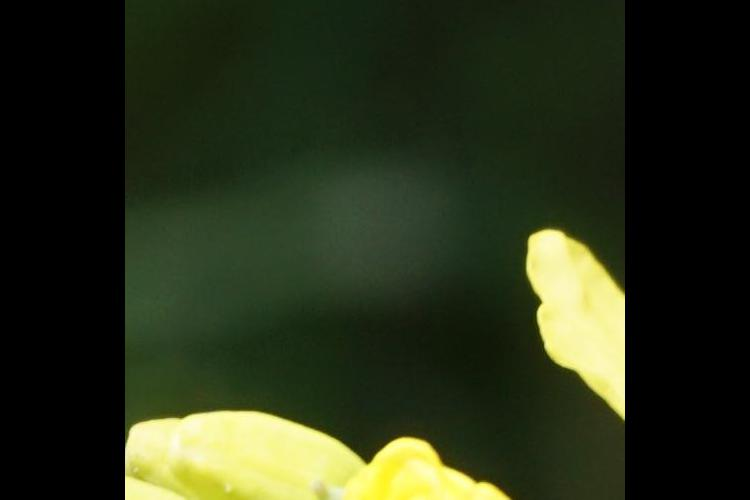bud: (170, 407, 365, 500)
yellow: (347, 225, 626, 500)
